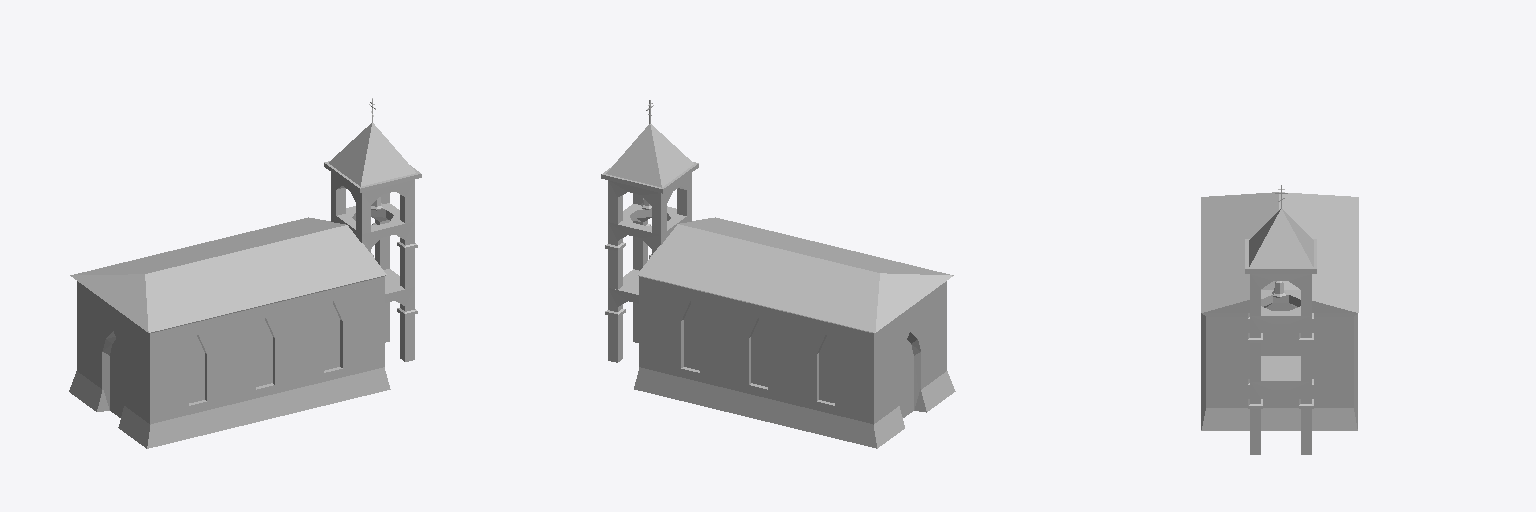
File: kosciol.obj
The picture shows the model from 3 angles: view 1: azimuth 30°, elevation 25°; view 2: azimuth 150°, elevation 25°; view 3: azimuth 270°, elevation 25°; orthographic projection.
Visible parts, largest first — view 1: obj0; view 2: obj0; view 3: obj0.
Boxes of the visible parts, <box> form: obj0: <box>69,98,421,448</box>; obj0: <box>601,100,955,448</box>; obj0: <box>1201,185,1358,454</box>.
Size of the model in its own units: 21.66 by 17.91 by 9.96.